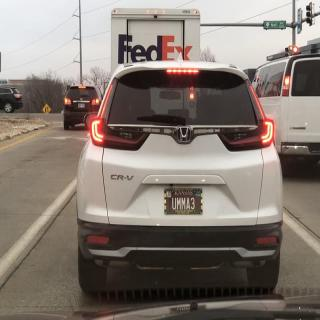license: (165, 189, 204, 216)
